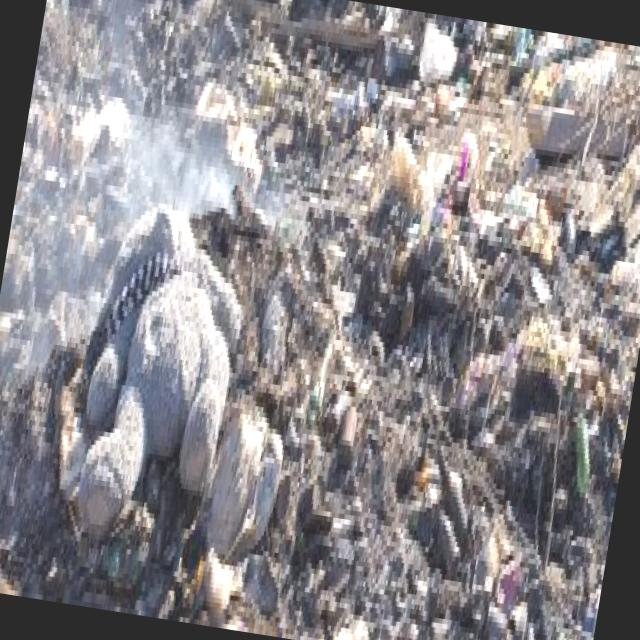garbage: (3, 27, 640, 640)
